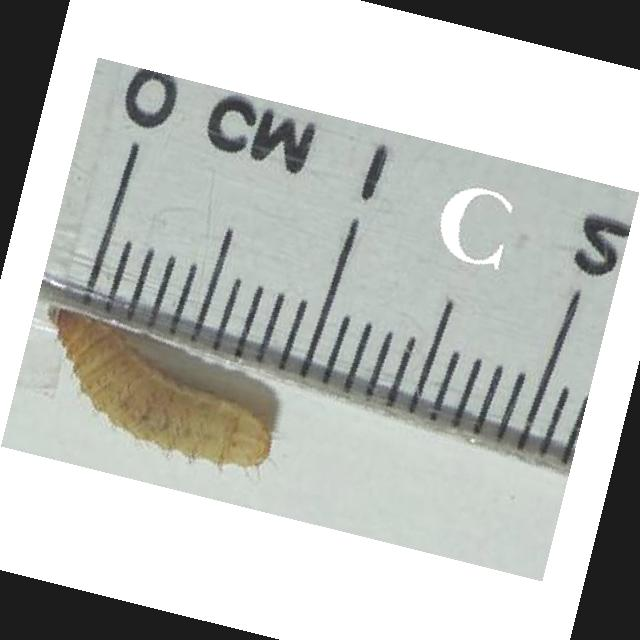Maggot: (41, 303, 268, 468)
